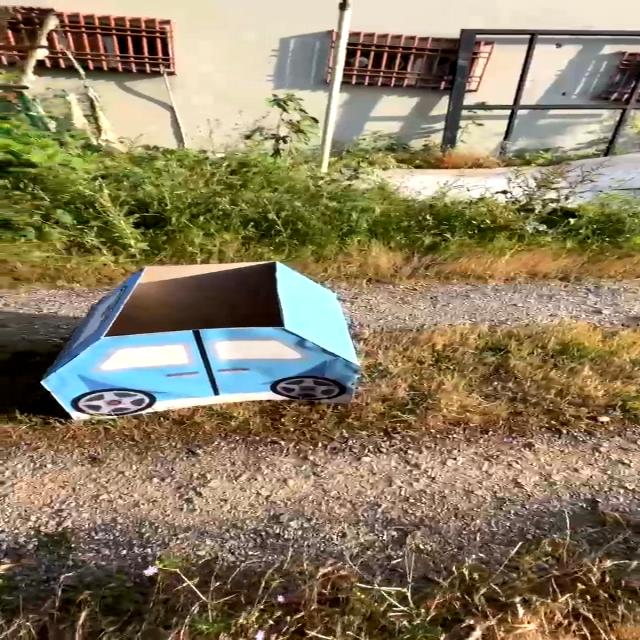blue_car: (0, 240, 405, 428)
